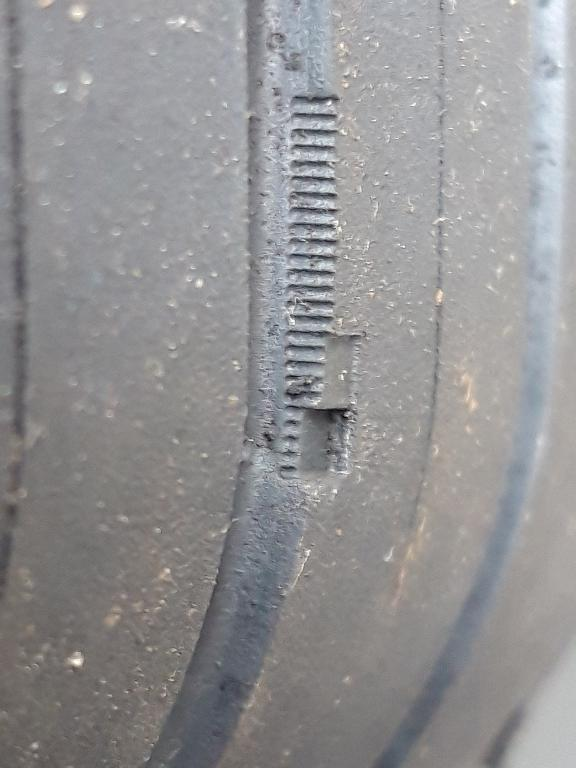temoin:25: (263, 320, 375, 496)
